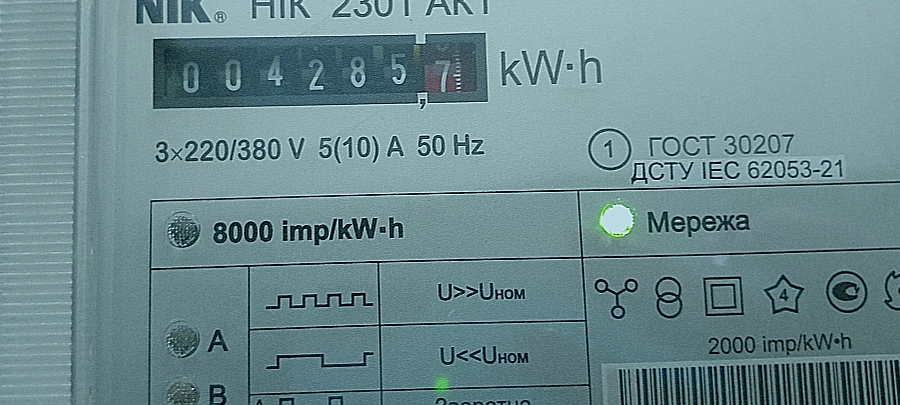0: (221, 56, 243, 92), (179, 58, 200, 94)
2: (305, 56, 324, 92)
4: (265, 52, 283, 87)
5: (386, 49, 407, 85)
7: (431, 57, 451, 93)
8: (345, 53, 367, 89)
screen: (136, 21, 502, 121)
